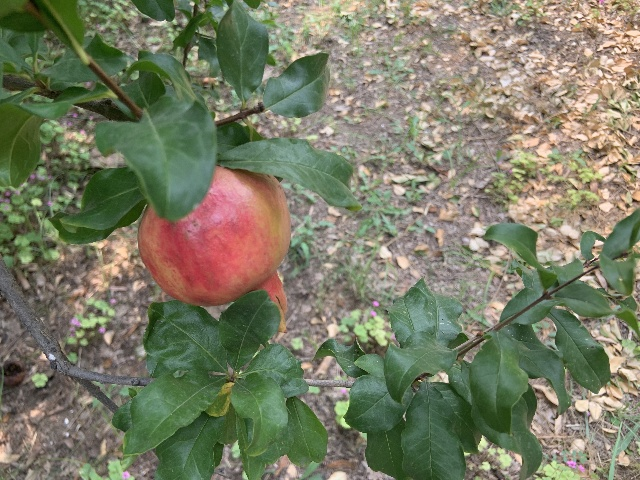ripe: (137, 165, 290, 333)
